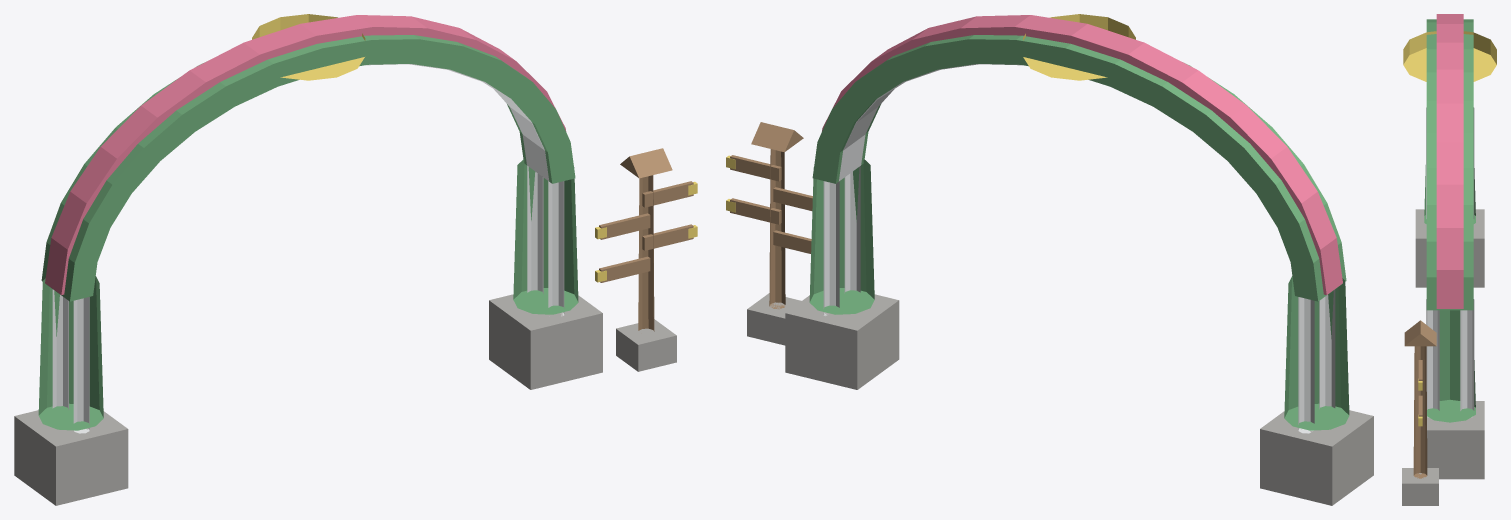
The model's file is prop_20_dalat_flower_festival_arch_and_wooden_signpost.glb.
The picture shows the model from 3 angles, left to right: view 1: azimuth 30°, elevation 25°; view 2: azimuth 150°, elevation 25°; view 3: azimuth 270°, elevation 25°; orthographic projection. The views are drawn at different scales.
Visible parts, largest first — view 1: prop_20_dalat_flower_festival_arch_and_wooden_signpost; view 2: prop_20_dalat_flower_festival_arch_and_wooden_signpost; view 3: prop_20_dalat_flower_festival_arch_and_wooden_signpost.
Part boxes in pixels (x1,y1,x2,y2): prop_20_dalat_flower_festival_arch_and_wooden_signpost: (14, 14, 697, 505); prop_20_dalat_flower_festival_arch_and_wooden_signpost: (726, 14, 1373, 505); prop_20_dalat_flower_festival_arch_and_wooden_signpost: (1402, 14, 1496, 505).
Size of the model in its own units: 12.47 by 7.3 by 1.92.
